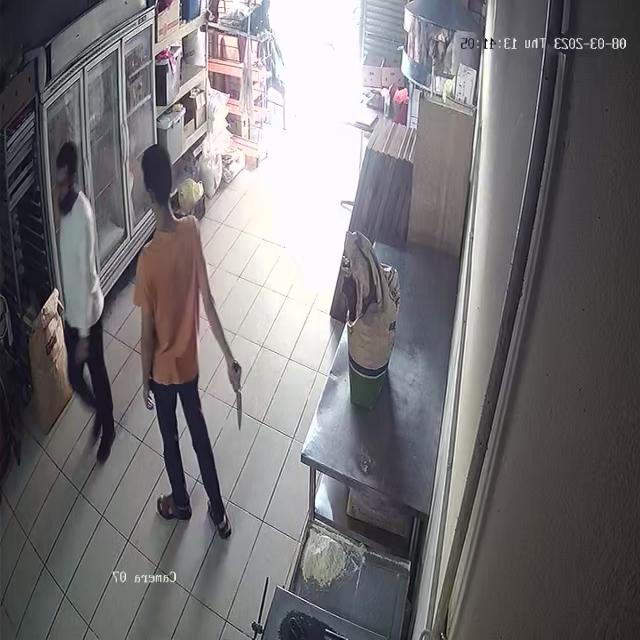Knife: (218, 356, 254, 435)
